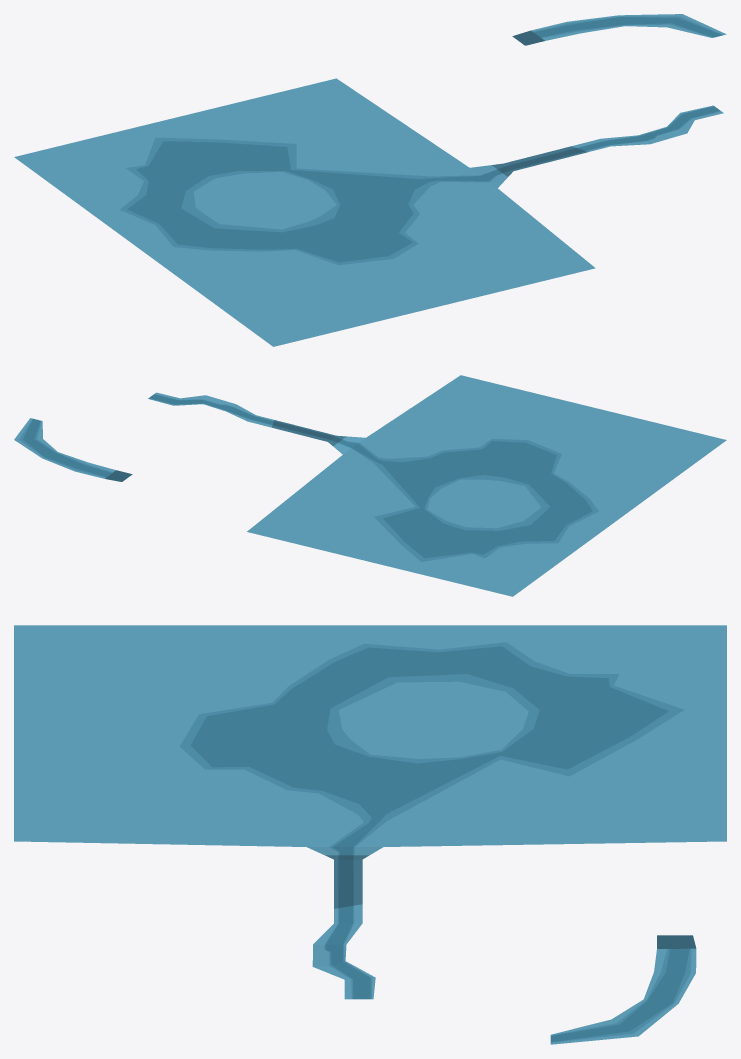
The model's file is kd_stage_135ebf_5_0.glb.
The picture shows the model from 3 angles, top to bottom: view 1: azimuth 30°, elevation 25°; view 2: azimuth 150°, elevation 25°; view 3: azimuth 270°, elevation 25°; orthographic projection. The views are drawn at different scales.
Visible parts, largest first — view 1: kd_stage_135ebf_5_0; view 2: kd_stage_135ebf_5_0; view 3: kd_stage_135ebf_5_0.
Boxes of the visible parts, left/top/right/bottom form: kd_stage_135ebf_5_0: left=14, top=14, right=726, bottom=346; kd_stage_135ebf_5_0: left=14, top=375, right=726, bottom=596; kd_stage_135ebf_5_0: left=14, top=625, right=726, bottom=1044.
Bounding box in the file's own units: 110 × 1.83 × 76.09.
Materials: 1 (1 with a texture image).
